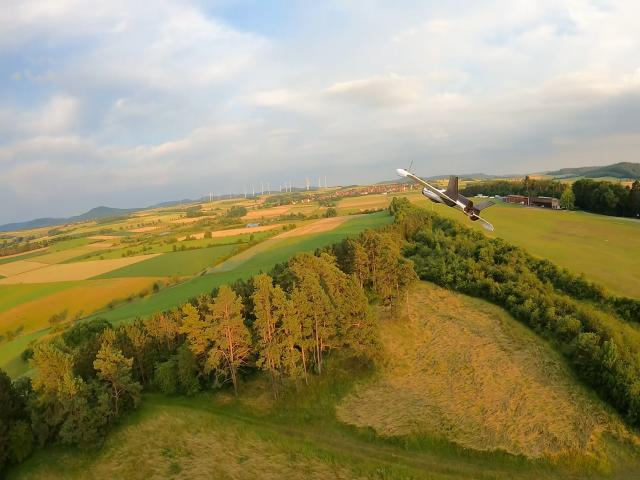plane: (396, 165, 494, 229)
